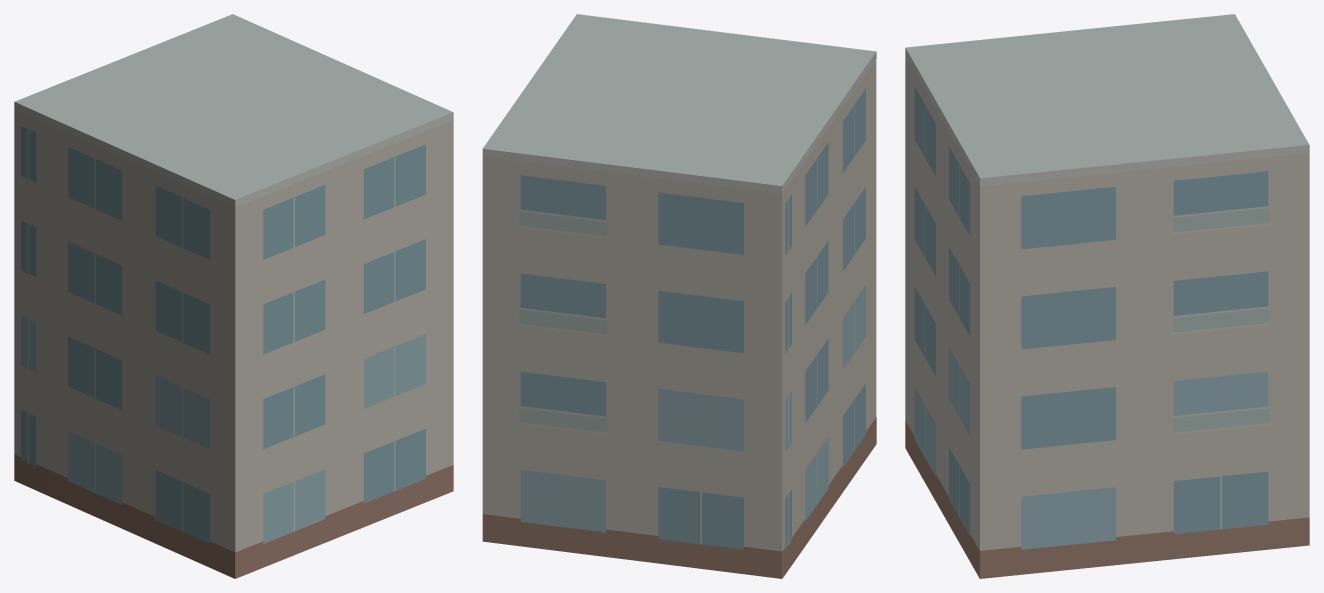
File: residential-c0006f83-aecf-4b04-b802-316d51fb3c1c.glb
The picture shows the model from 3 angles, left to right: view 1: azimuth 30°, elevation 25°; view 2: azimuth 150°, elevation 25°; view 3: azimuth 270°, elevation 25°; orthographic projection. The views are drawn at different scales.
Visible parts, largest first — view 1: residential-c0006f83-aecf-4b04-b802-316d51fb3c1c.tmp; view 2: residential-c0006f83-aecf-4b04-b802-316d51fb3c1c.tmp; view 3: residential-c0006f83-aecf-4b04-b802-316d51fb3c1c.tmp.
Part boxes in pixels (x1,y1,x2,y2): residential-c0006f83-aecf-4b04-b802-316d51fb3c1c.tmp: (14,14,453,578); residential-c0006f83-aecf-4b04-b802-316d51fb3c1c.tmp: (482,14,876,578); residential-c0006f83-aecf-4b04-b802-316d51fb3c1c.tmp: (905,14,1309,578).
Size of the model in its own units: 10.75 by 12.2 by 11.17.
